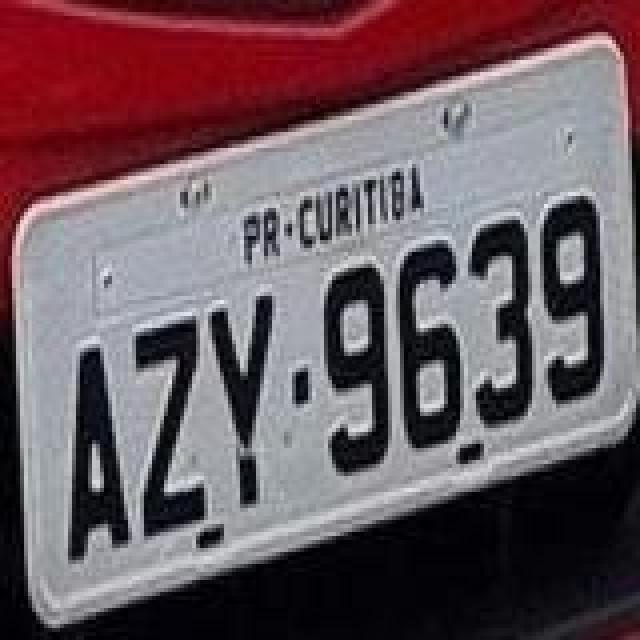3: (470, 216, 538, 432)
6: (398, 236, 466, 452)
9: (320, 260, 392, 476), (542, 198, 610, 410)
A: (66, 344, 134, 568)
Y: (206, 292, 274, 508)
Z: (130, 320, 206, 544)
